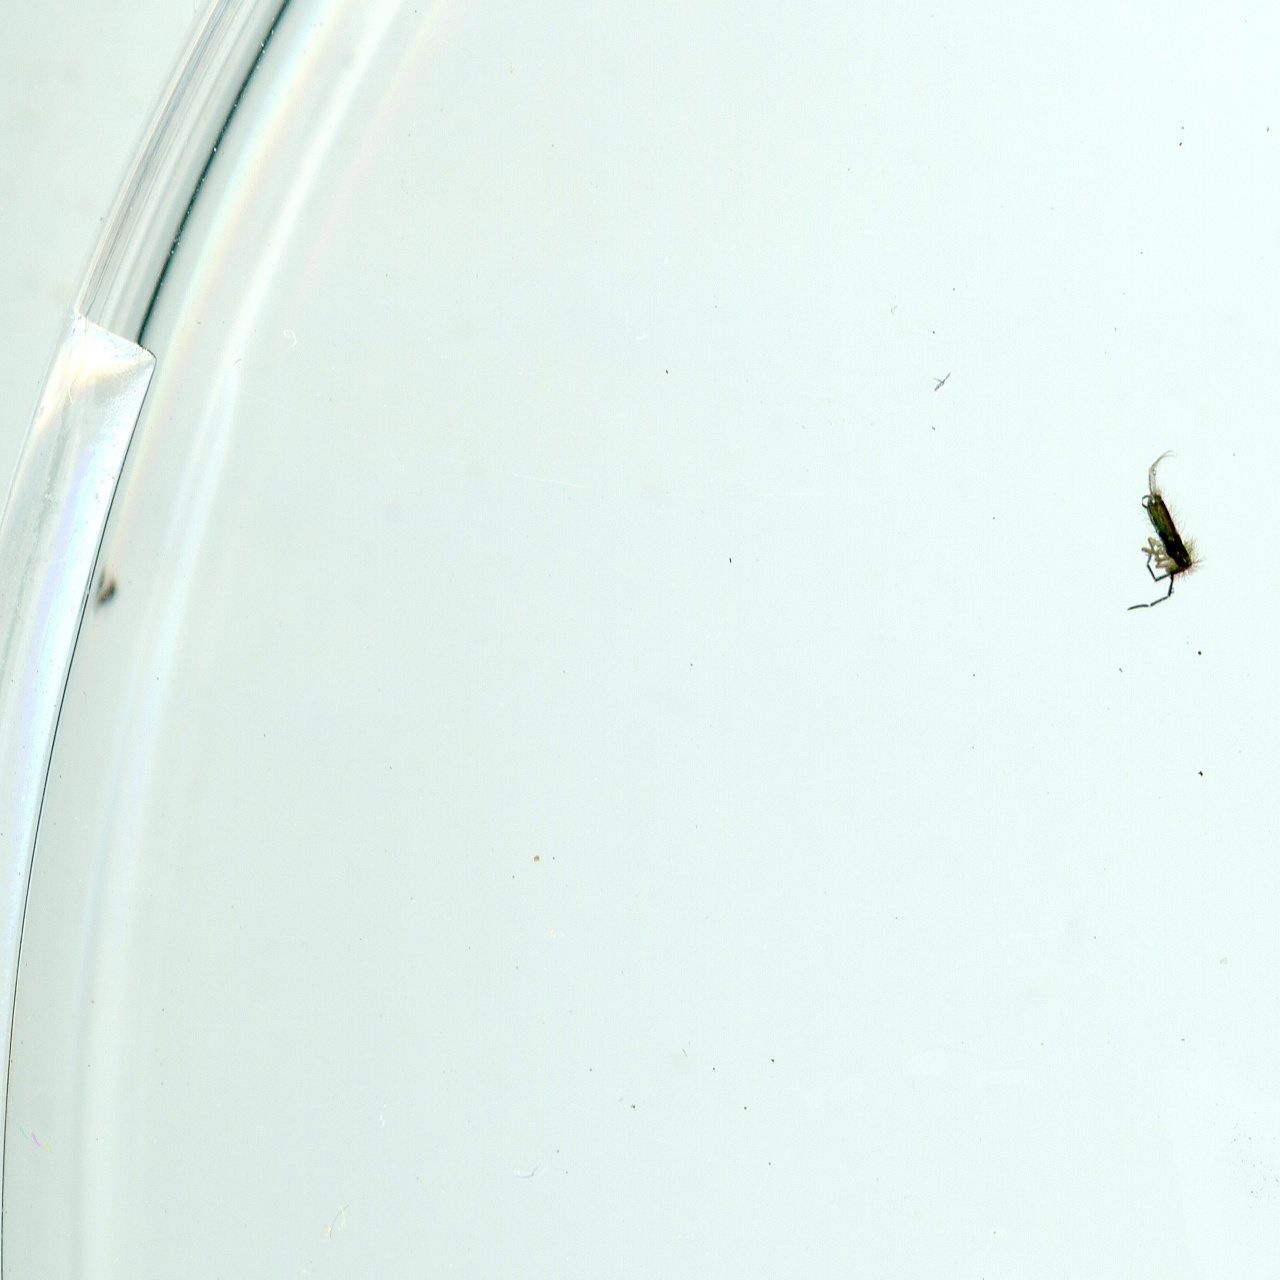arthropod: (1068, 441, 1239, 627)
